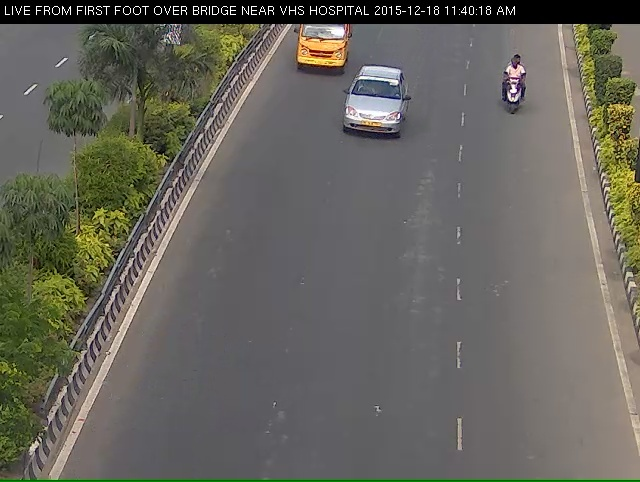Car: (341, 71, 411, 159), (291, 21, 350, 82)
Person: (498, 62, 532, 125)
